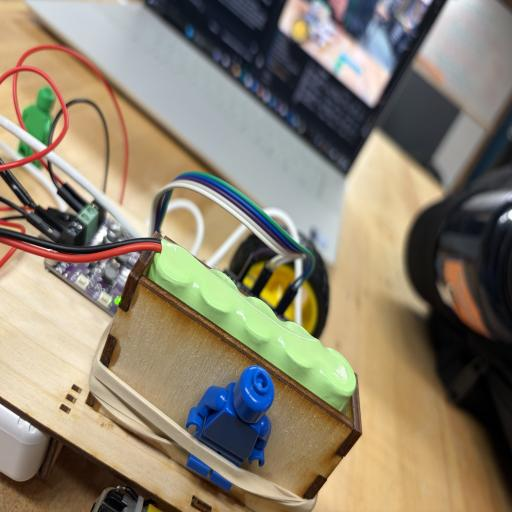Blue-Lego: (186, 365, 274, 467)
Green-Lego: (22, 87, 56, 145), (18, 141, 33, 157)
